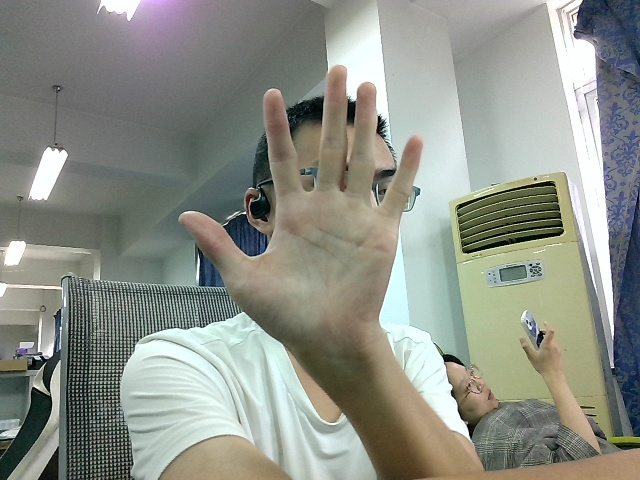paper: (173, 58, 429, 414)
